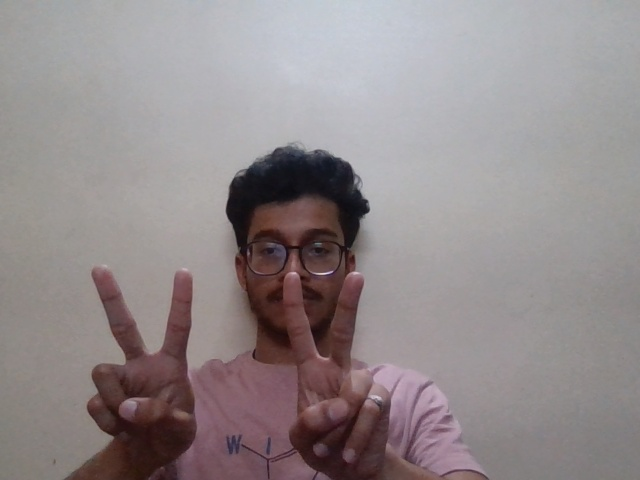take-care: (74, 255, 410, 471)
